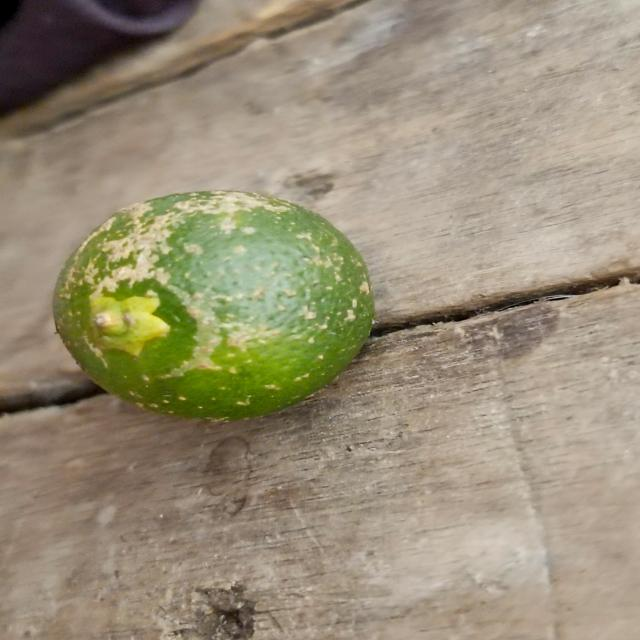scab: (52, 188, 378, 426)
